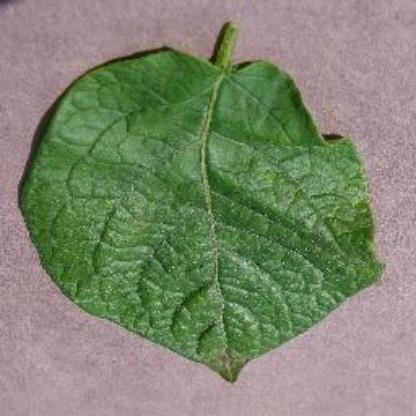Healthy-plant: (18, 19, 386, 383)
